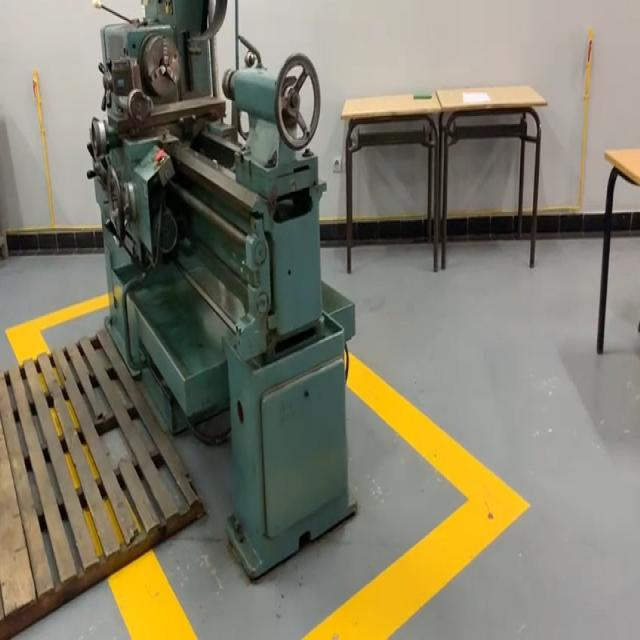tour parallele: (88, 0, 355, 579)
